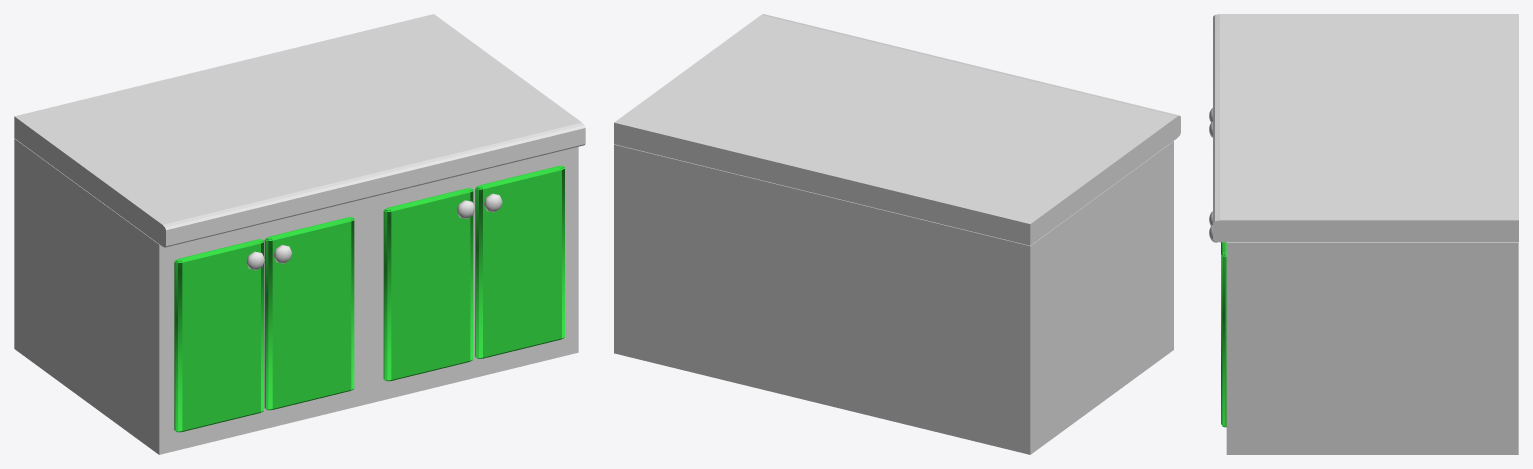
File: Theke_Var1.fbx
3 views of the same model, side by side, from view 1: azimuth 30°, elevation 25°; view 2: azimuth 150°, elevation 25°; view 3: azimuth 270°, elevation 25° (orthographic).
Visible parts, largest first — view 1: Cube.014; view 2: Cube.014; view 3: Cube.014.
Boxes of the visible parts, x1,y1,x2,y2 form: Cube.014: (14,14,585,454); Cube.014: (614,14,1180,454); Cube.014: (1209,14,1518,454).
Bounding box in the file's own units: 250 × 132 × 159.
